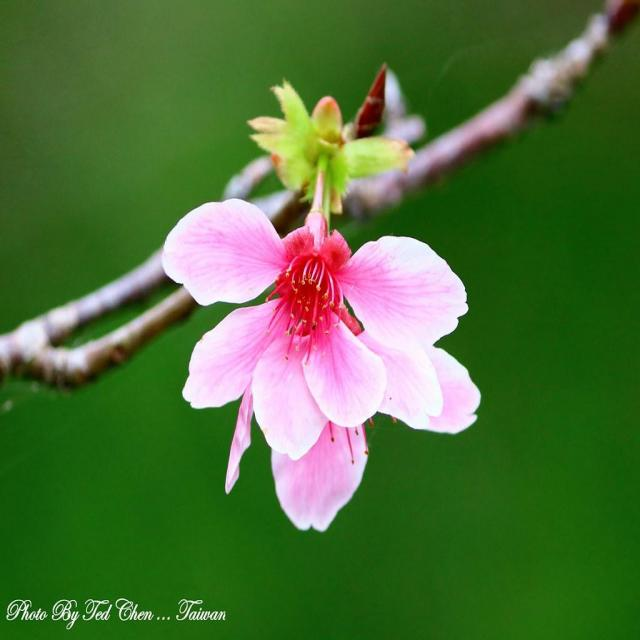organic waste: (154, 165, 478, 526)
